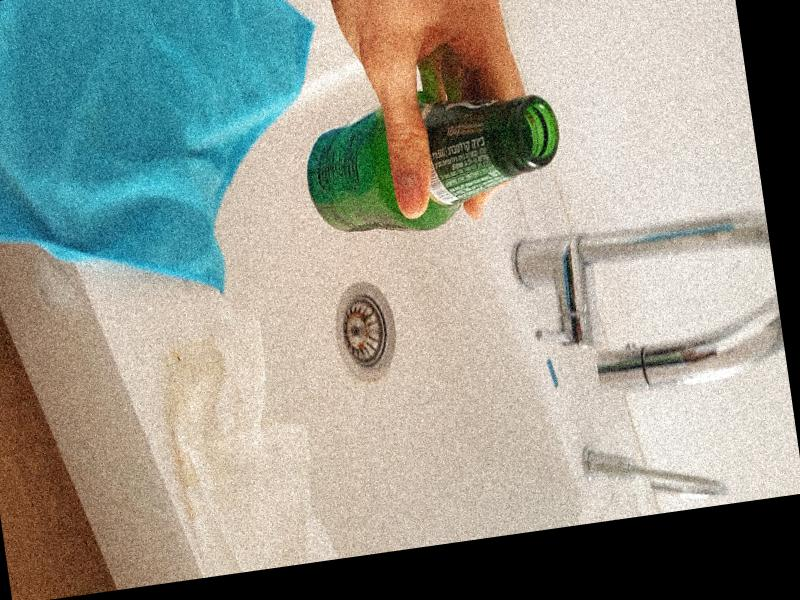Beer: (296, 75, 569, 247)
